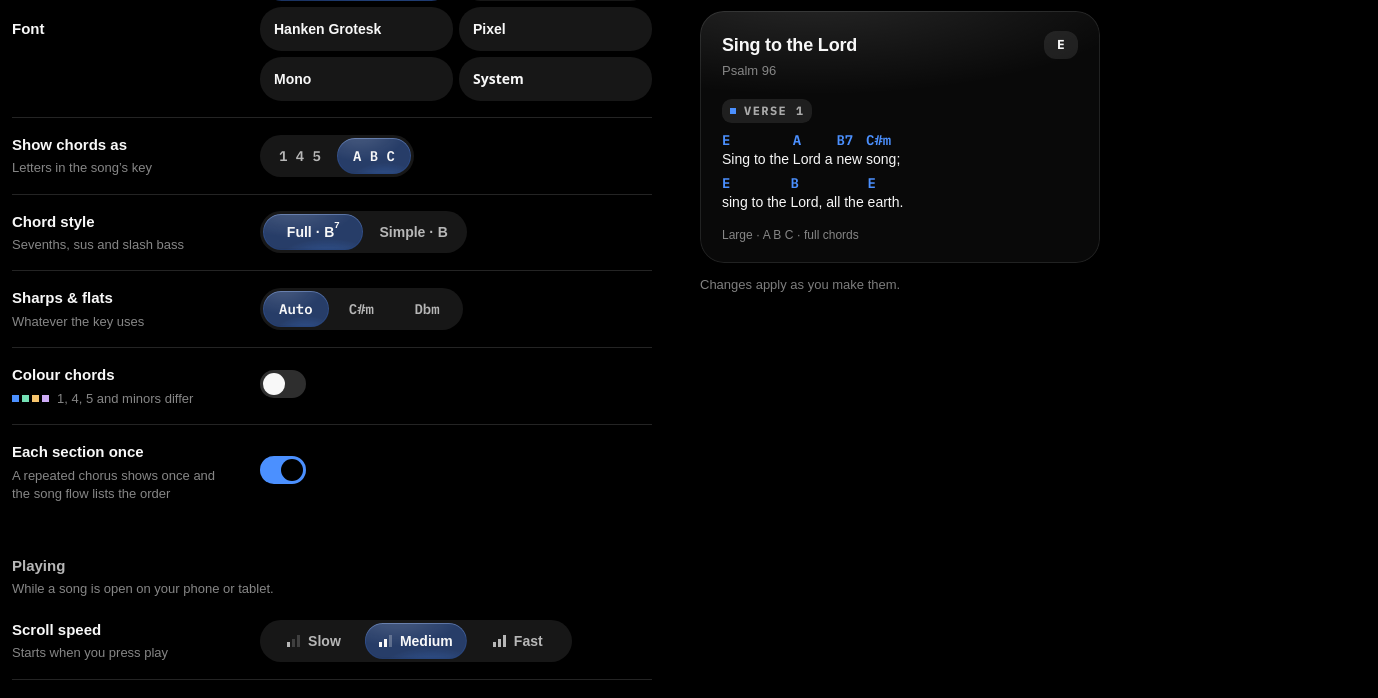
SettingsPage › preview › colours the chords when the switch is on
(page scrolled)
Click the switch named "Colour chords": {"x": 283, "y": 384} x1=260 y1=370 x2=306 y2=398
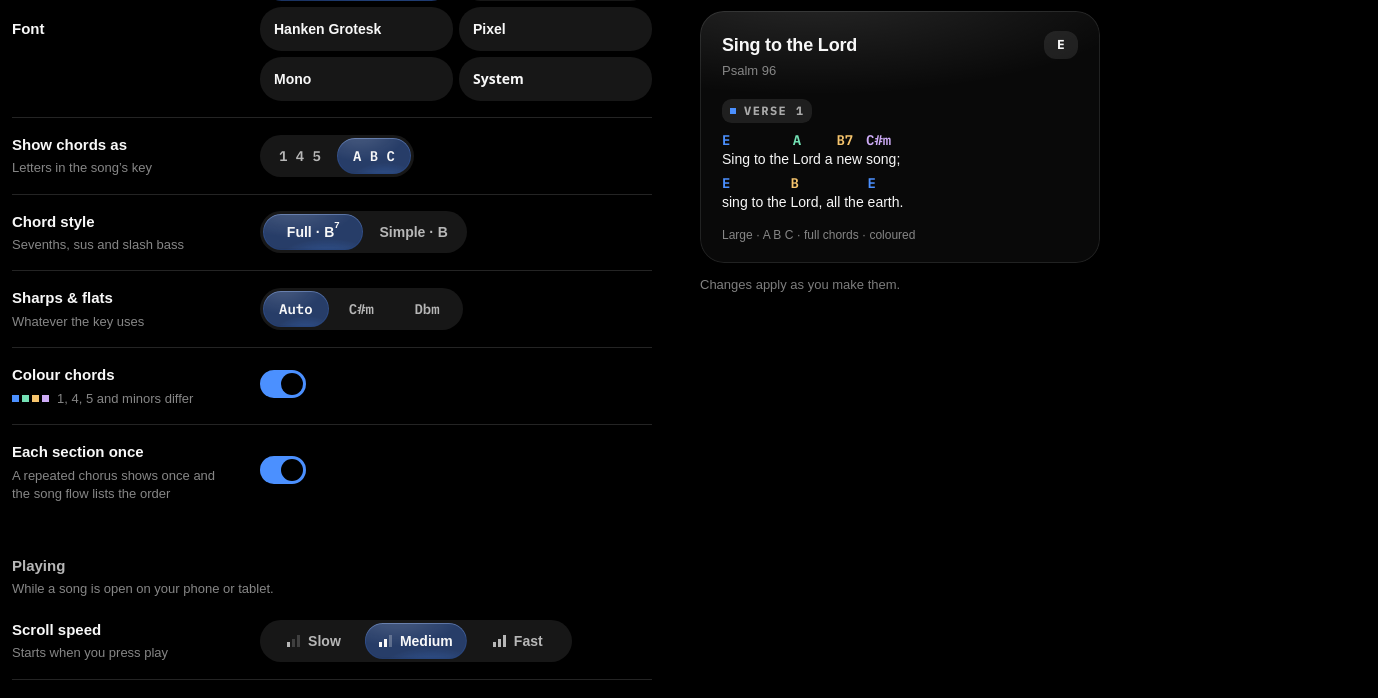
Expected: the text "Large · A B C · full chords · coloured" is shown, x1=722 y1=228 x2=915 y2=242
